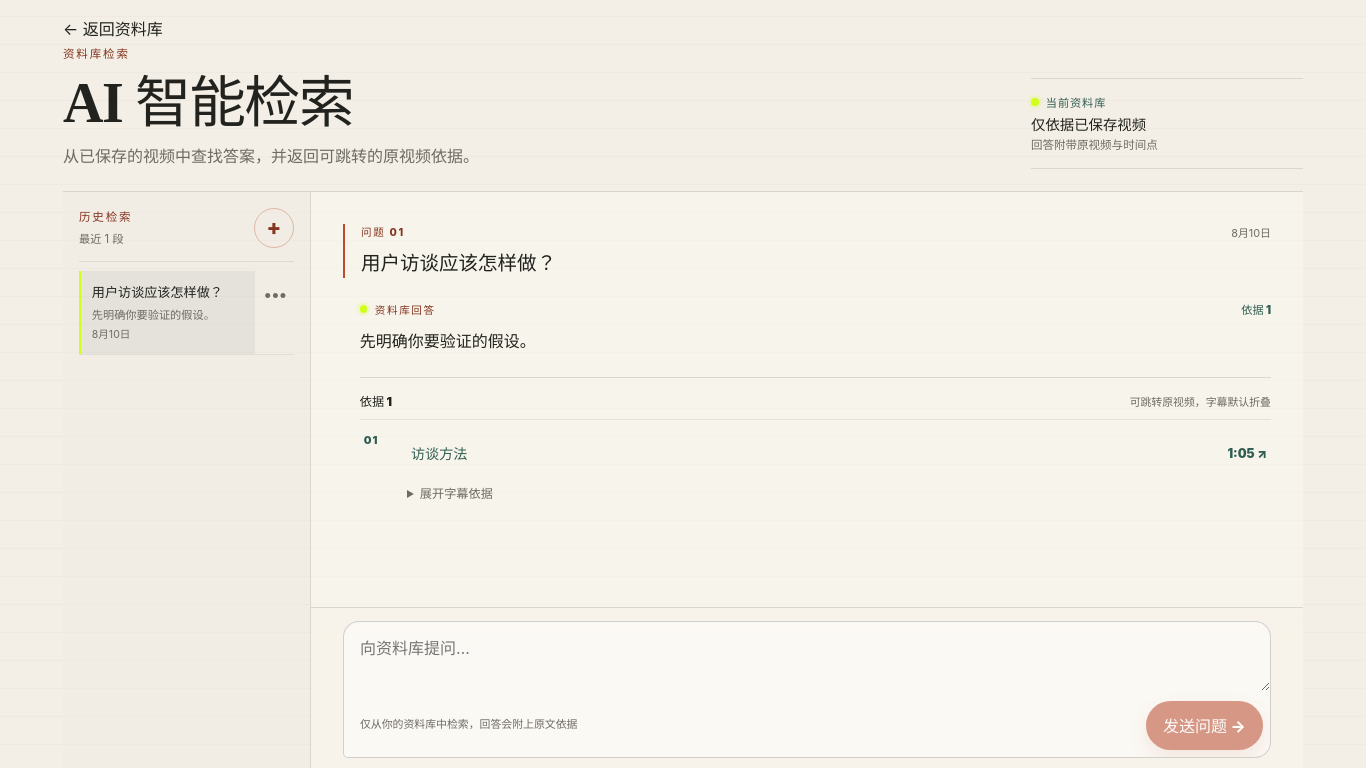
AI search chat page › describes a server timeout without claiming the network failed
This screenshot has width=1366, height=768.
Type "拟定四分钟演讲大纲" into the text box labelled "向资料库提问" at (807, 657), box [344,622,1270,691]
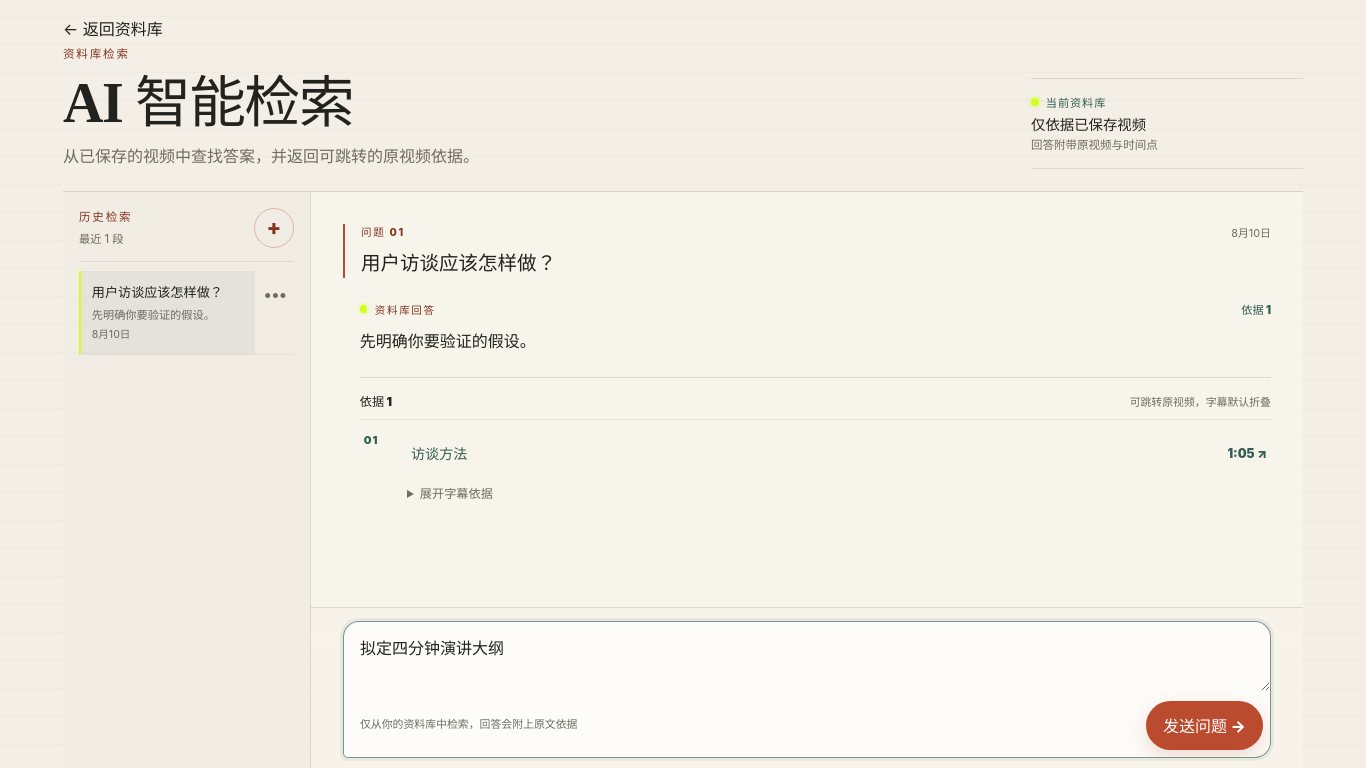
Click the button "发送问题 →" at (1204, 725), box [1146,701,1263,750]
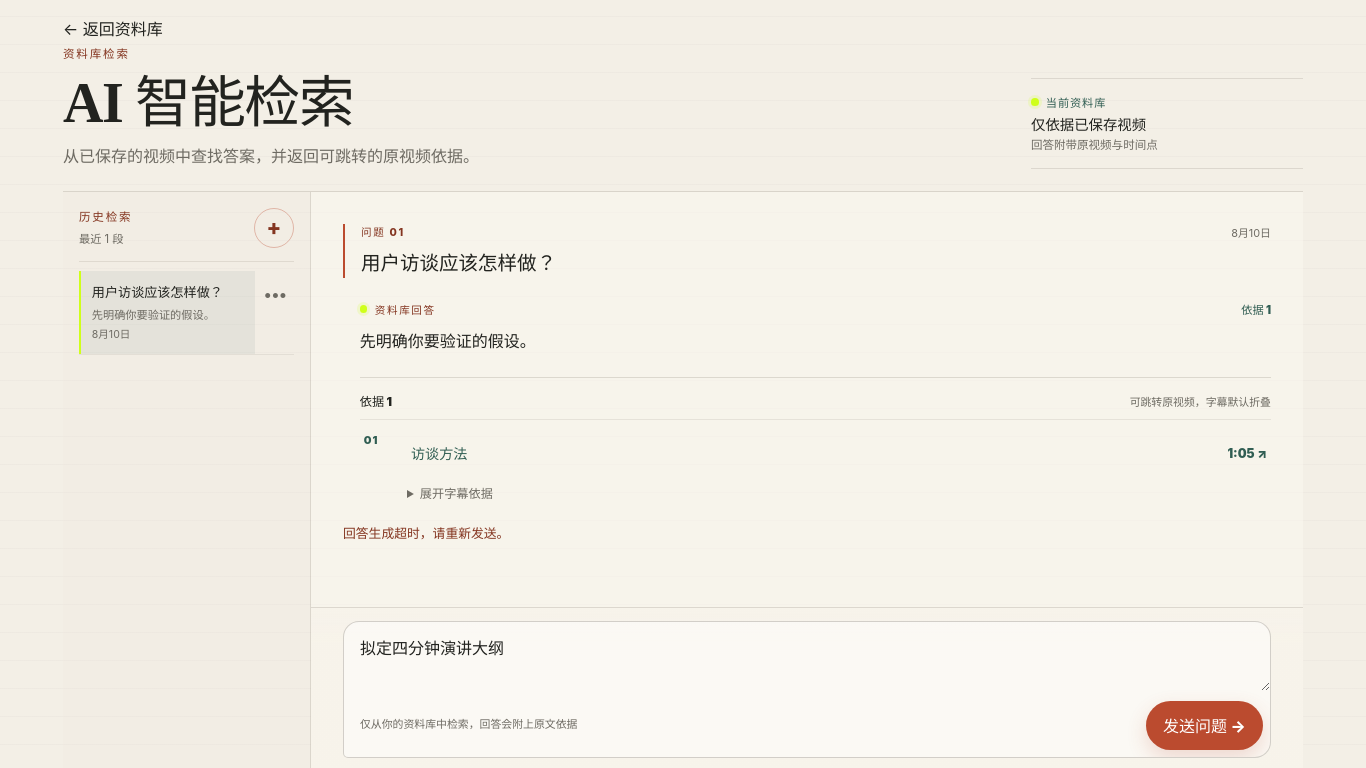
Result: the message reads "回答生成超时，请重新发送。" at [343,526,509,541]
